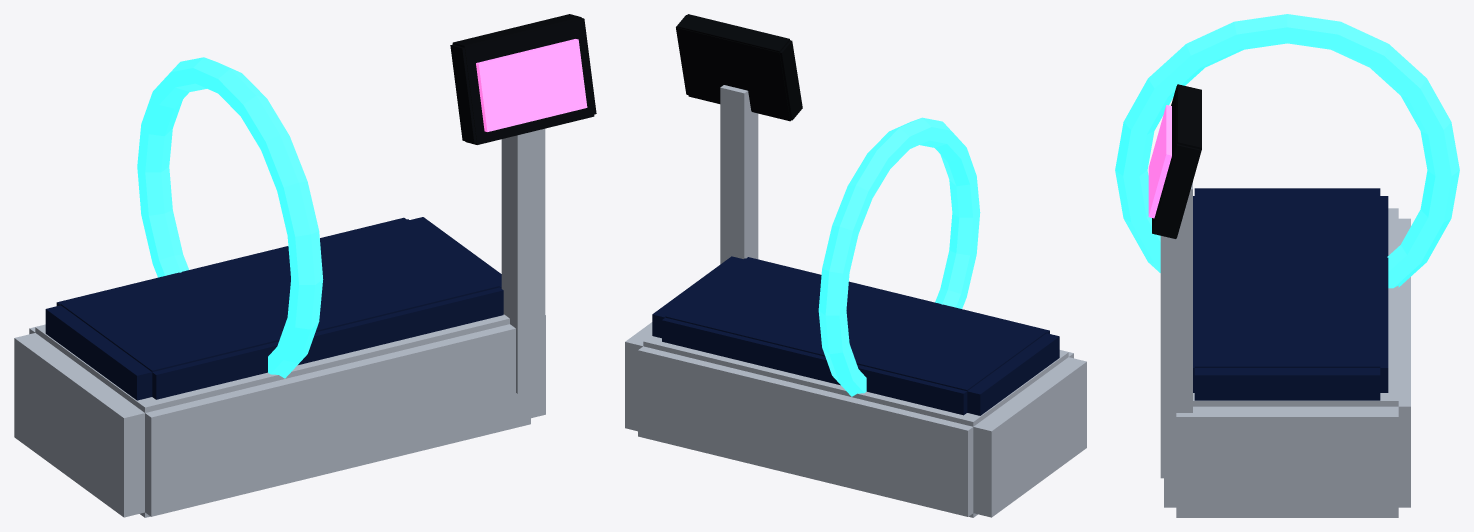
File: prop_medical_pod.glb
3 views of the same model, side by side, from view 1: azimuth 30°, elevation 25°; view 2: azimuth 150°, elevation 25°; view 3: azimuth 270°, elevation 25° (orthographic). The views are drawn at different scales.
Parts seen in each view (by area): view 1: PropMedicalPod; view 2: PropMedicalPod; view 3: PropMedicalPod.
Boxes of the visible parts, x1,y1,x2,y2 form: PropMedicalPod: [14, 14, 596, 517]; PropMedicalPod: [625, 14, 1086, 517]; PropMedicalPod: [1115, 14, 1459, 517].
Bounding box in the file's own units: 1.66 × 1.35 × 1.06.
